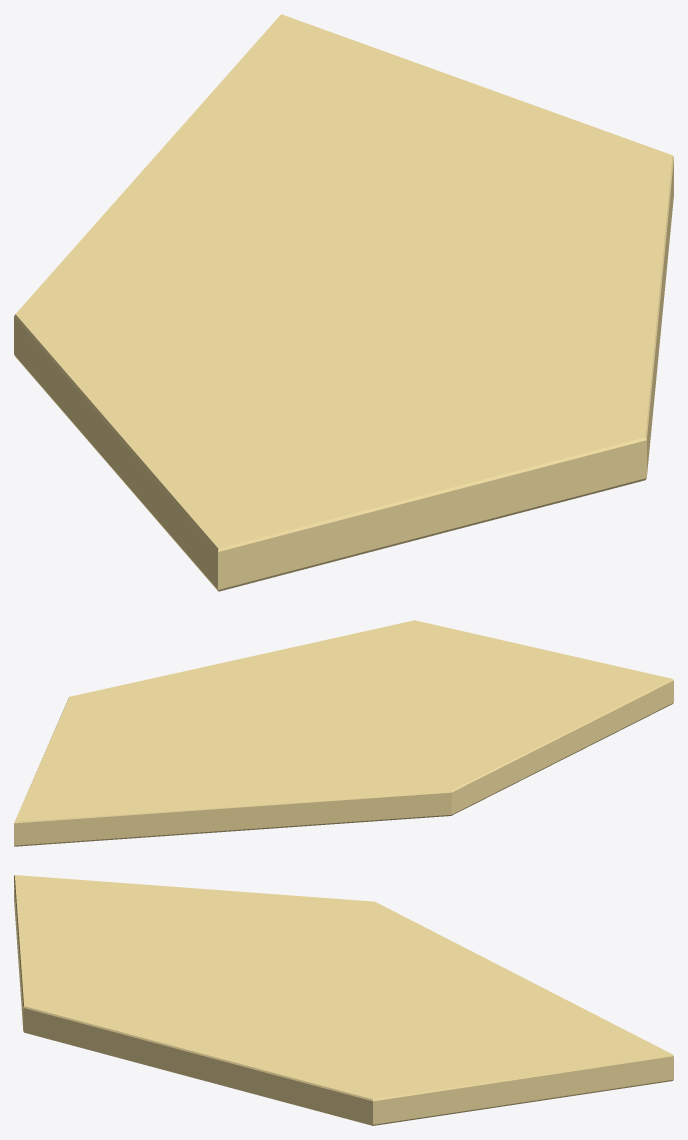
File: MUS.glb
The picture shows the model from 3 angles, top to bottom: view 1: azimuth 30°, elevation 25°; view 2: azimuth 150°, elevation 25°; view 3: azimuth 270°, elevation 25°; orthographic projection. The views are drawn at different scales.
Bounding box in the file's own units: 1.24 × 0.068 × 1.53.
